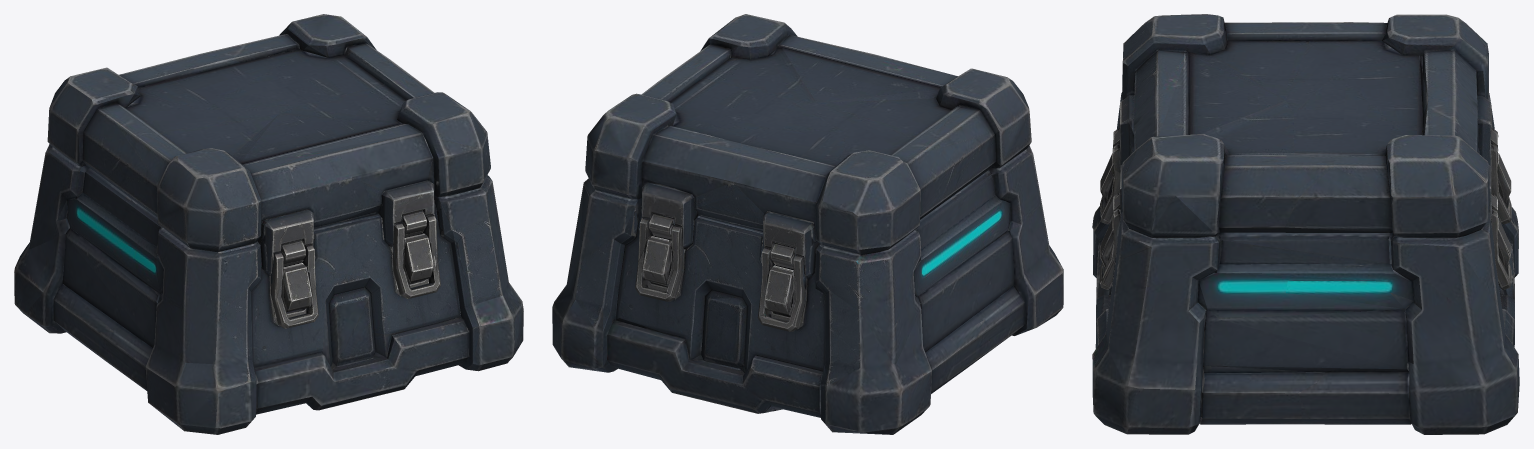
The model's file is ammo_crate.glb.
3 views of the same model, side by side, from view 1: azimuth 30°, elevation 25°; view 2: azimuth 150°, elevation 25°; view 3: azimuth 270°, elevation 25° (orthographic). The views are drawn at different scales.
Parts seen in each view (by area): view 1: output_unwrapped; view 2: output_unwrapped; view 3: output_unwrapped.
Boxes of the visible parts, x1=… form: output_unwrapped: x1=14, y1=14, x2=523, y2=434; output_unwrapped: x1=552, y1=14, x2=1063, y2=434; output_unwrapped: x1=1092, y1=14, x2=1519, y2=434.
Bounding box in the file's own units: 1.9 × 1.24 × 1.84.
Materials: 1 (1 with a texture image).
